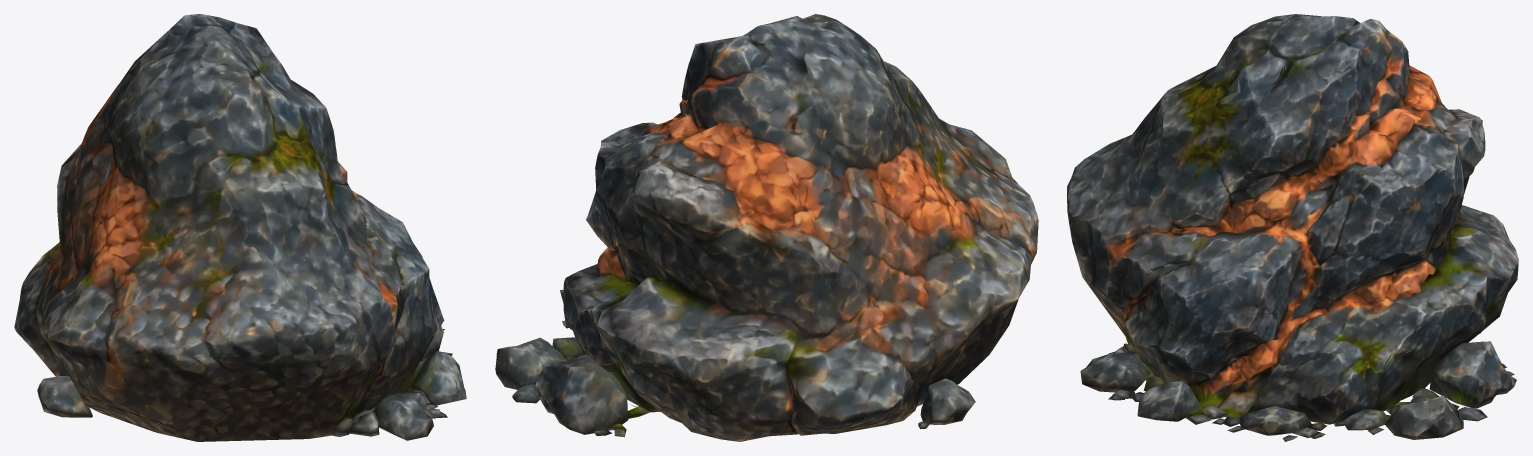
Rendered from kupferstein.glb.
3 views of the same model, side by side, from view 1: azimuth 30°, elevation 25°; view 2: azimuth 150°, elevation 25°; view 3: azimuth 270°, elevation 25° (orthographic). The views are drawn at different scales.
Parts seen in each view (by area): view 1: baum; view 2: baum; view 3: baum.
Boxes of the visible parts, bbox=[...] form: baum: bbox=[14, 14, 466, 441]; baum: bbox=[495, 14, 1038, 441]; baum: bbox=[1067, 14, 1518, 441].
Size of the model in its own units: 1.52 by 1.2 by 1.5.
1 material, 1 textured.
